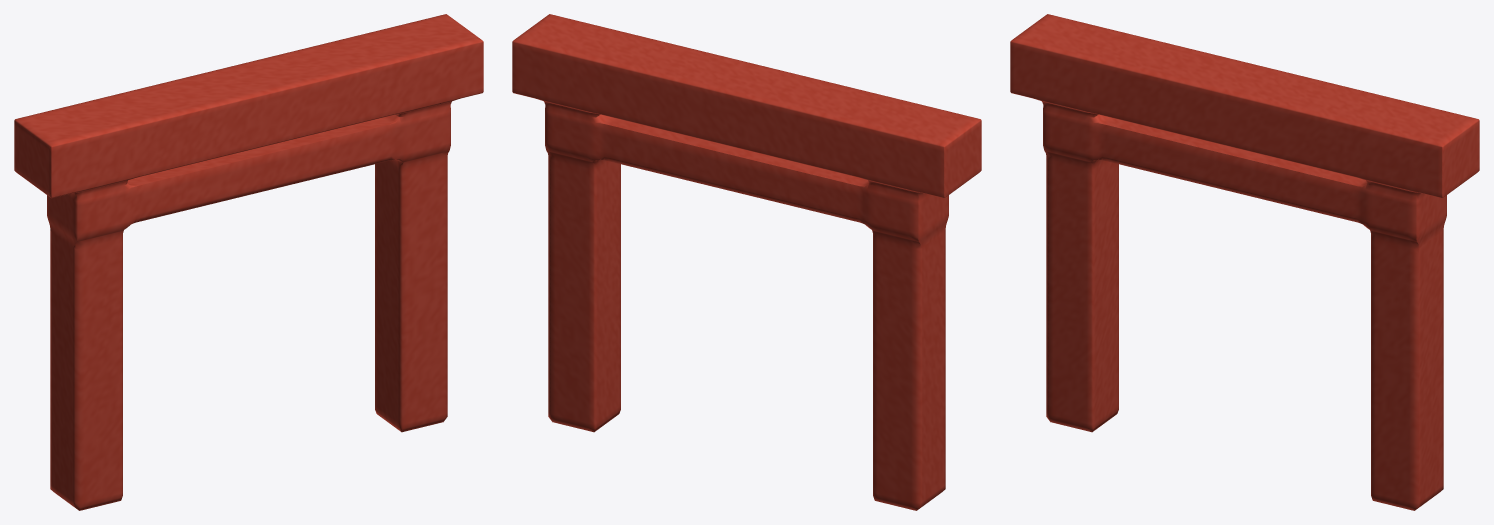
Rendered from gate.glb.
The picture shows the model from 3 angles, left to right: view 1: azimuth 30°, elevation 25°; view 2: azimuth 150°, elevation 25°; view 3: azimuth 330°, elevation 25°; orthographic projection.
Parts seen in each view (by area): view 1: gate; view 2: gate; view 3: gate.
Boxes of the visible parts, x1=… form: gate: x1=14, y1=14, x2=483, y2=510; gate: x1=512, y1=14, x2=981, y2=510; gate: x1=1010, y1=14, x2=1479, y2=510.
Size of the model in its own units: 4 by 3.34 by 0.602.
